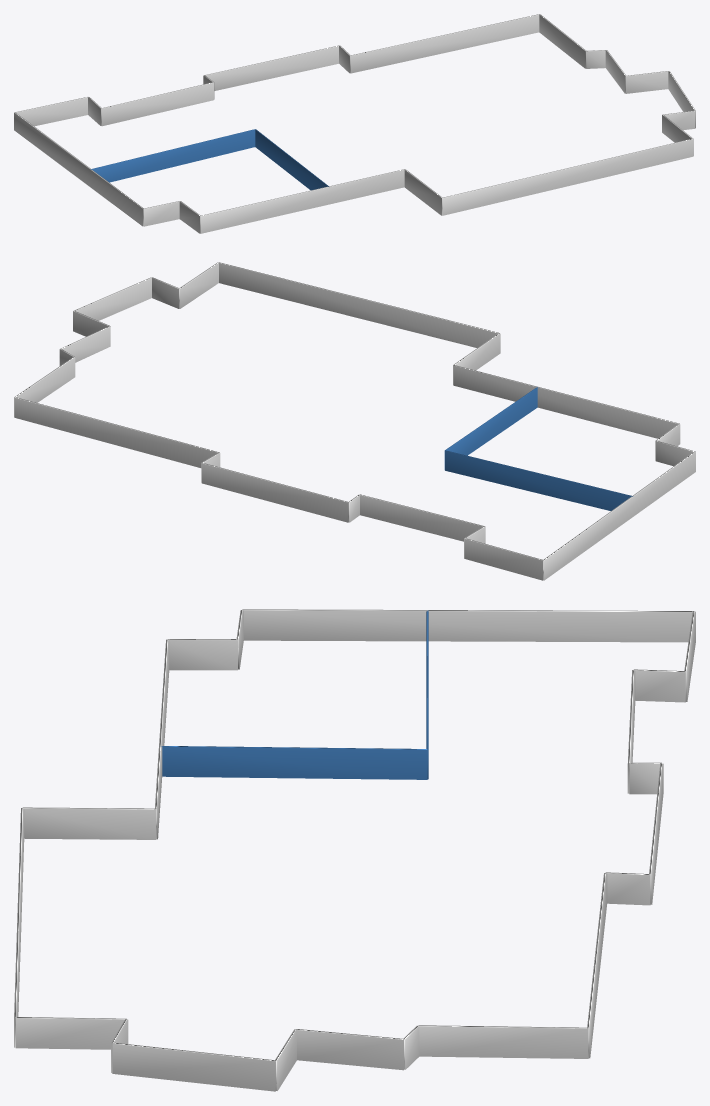
The model's file is ce0bba37-9c7c-4533-a7d5-af0317f1eb0f.glb.
3 views of the same model, one above another, from view 1: azimuth 30°, elevation 25°; view 2: azimuth 150°, elevation 25°; view 3: azimuth 270°, elevation 25° (orthographic). The views are drawn at different scales.
Parts seen in each view (by area): view 1: walls-group; view 2: walls-group; view 3: walls-group.
Part boxes in pixels (x1=…): walls-group: x1=14, y1=14, x2=695, y2=233; walls-group: x1=14, y1=262, x2=695, y2=580; walls-group: x1=14, y1=609, x2=695, y2=1091.
Size of what is drawn, in the model's own units: 0.9702 by 0.03 by 0.618.
